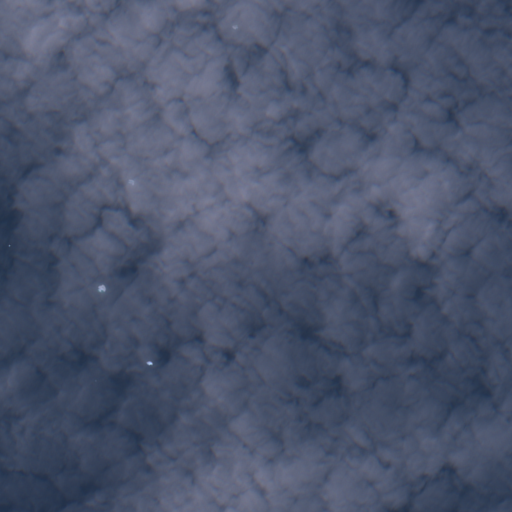Iceberg: (98, 284, 106, 291), (129, 180, 133, 184), (147, 361, 152, 364), (233, 26, 237, 28), (8, 245, 10, 246)
